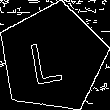L_N: (33, 31, 72, 85)
